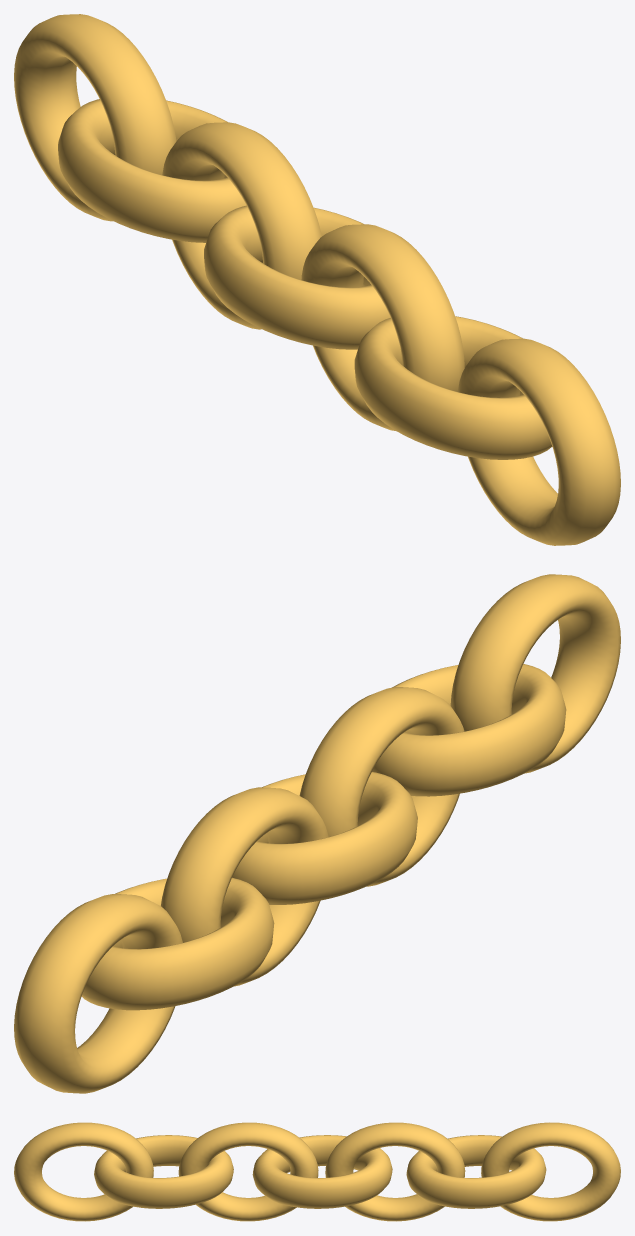
The model's file is realistic_gold_chain__free.glb.
3 views of the same model, one above another, from view 1: azimuth 30°, elevation 25°; view 2: azimuth 150°, elevation 25°; view 3: azimuth 270°, elevation 25° (orthographic). The views are drawn at different scales.
Visible parts, largest first — view 1: Torus.005, Torus, Torus.004, Torus.003, Torus.001, Torus.006, Torus.002; view 2: Torus, Torus.005, Torus.002, Torus.003, Torus.001, Torus.004, Torus.006; view 3: Torus.005, Torus, Torus.003, Torus.001, Torus.006, Torus.002, Torus.004.
Boxes of the visible parts, left/top/right/bottom form: Torus.005: left=458, top=338, right=620, bottom=545; Torus: left=14, top=14, right=176, bottom=221; Torus.004: left=301, top=224, right=464, bottom=431; Torus.003: left=354, top=316, right=552, bottom=459; Torus.001: left=58, top=99, right=246, bottom=242; Torus.006: left=204, top=205, right=390, bottom=349; Torus.002: left=162, top=122, right=321, bottom=329; Torus: left=14, top=894, right=182, bottom=1093; Torus.005: left=450, top=574, right=620, bottom=773; Torus.002: left=161, top=787, right=328, bottom=986; Torus.003: left=372, top=664, right=566, bottom=796; Torus.001: left=81, top=877, right=274, bottom=1010; Torus.004: left=299, top=687, right=464, bottom=886; Torus.006: left=232, top=772, right=417, bottom=904; Torus.005: left=14, top=1122, right=153, bottom=1221; Torus: left=481, top=1122, right=620, bottom=1221; Torus.003: left=94, top=1135, right=233, bottom=1208; Torus.001: left=406, top=1135, right=546, bottom=1208; Torus.006: left=252, top=1135, right=392, bottom=1208; Torus.002: left=325, top=1122, right=465, bottom=1221; Torus.004: left=178, top=1122, right=318, bottom=1221.
Bounding box in the file's own units: 151 × 151 × 884.
7 materials, 7 textured.
